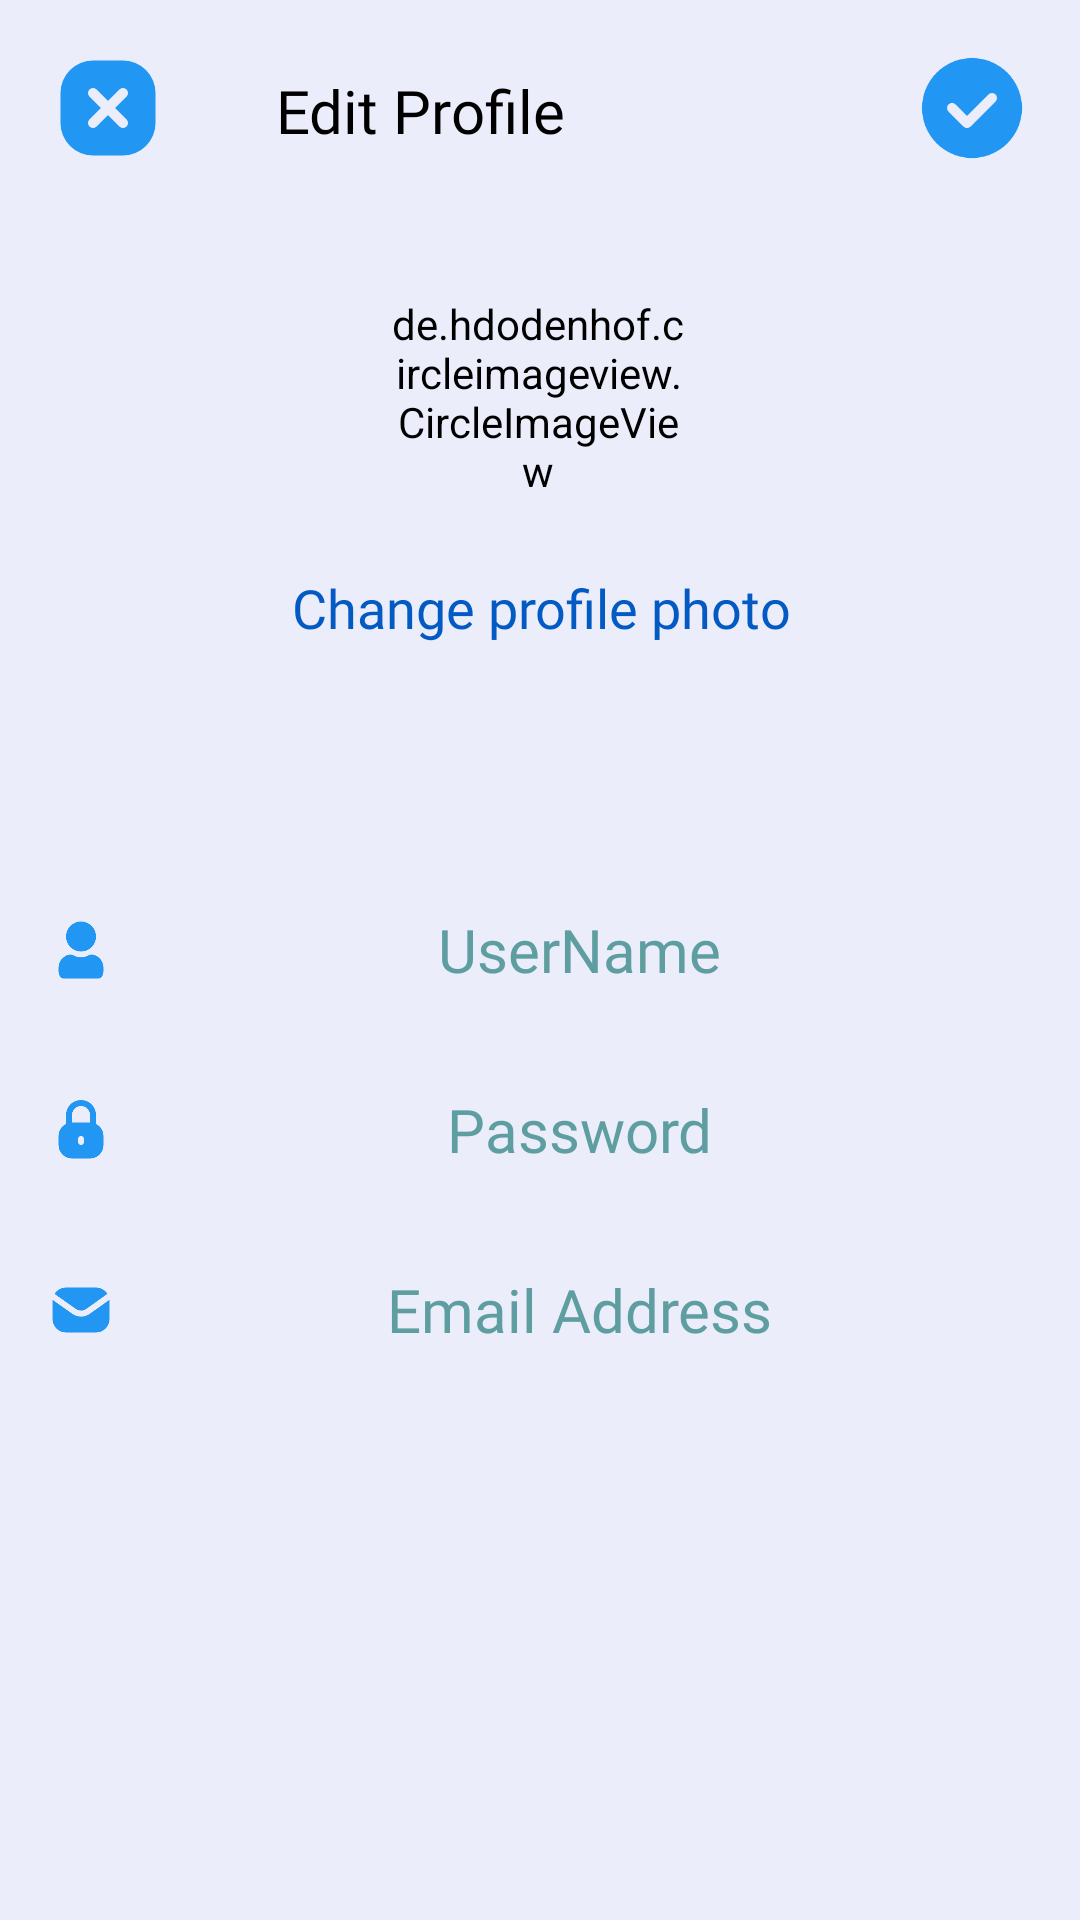

Icons on this 1080px×1920px Android screen, each with its box as [left=x1, top=y1, right=x2, bottom=y2]:
cancel: [left=60, top=60, right=156, bottom=156]
check: [left=922, top=58, right=1022, bottom=158]
